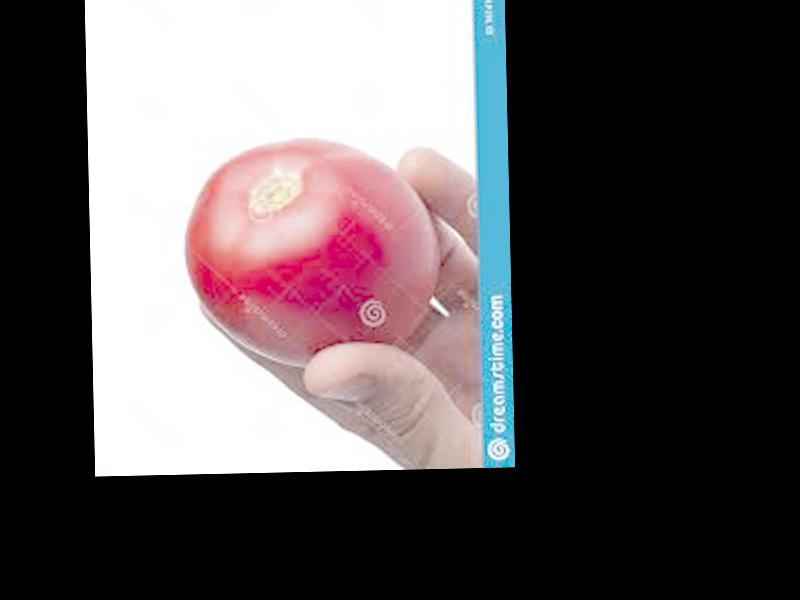Tomato: (183, 136, 440, 370)
